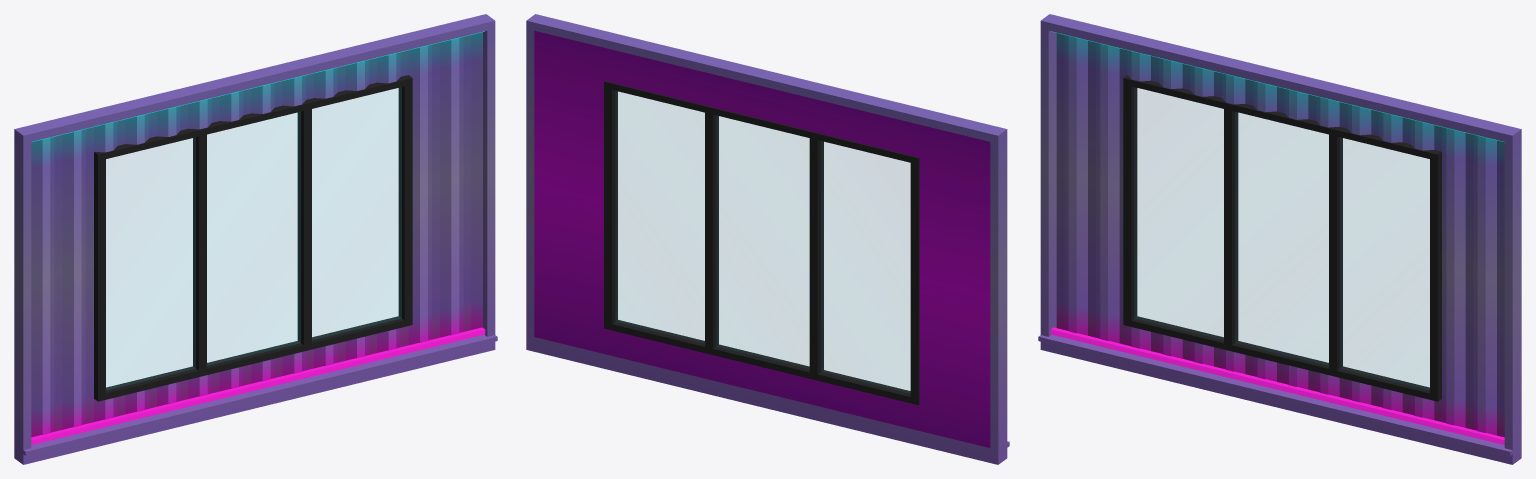
File: panel_window.gltf
3 renders of one model, left to right at view 1: azimuth 30°, elevation 25°; view 2: azimuth 150°, elevation 25°; view 3: azimuth 330°, elevation 25°, orthographic.
Parts seen in each view (by area): view 1: Cube, Details.002, Plane.003, Neones.001; view 2: Cube, Plane.004, Plane.003; view 3: Cube, Details.002, Plane.003, Neones.001.
Part boxes in pixels (bbox=[...]): Cube: bbox=[94, 75, 412, 401]; Details.002: bbox=[31, 32, 482, 437]; Plane.003: bbox=[14, 14, 497, 464]; Neones.001: bbox=[31, 31, 485, 444]; Cube: bbox=[604, 81, 919, 405]; Plane.004: bbox=[534, 30, 990, 447]; Plane.003: bbox=[526, 14, 1009, 464]; Cube: bbox=[1123, 75, 1441, 401]; Details.002: bbox=[1056, 33, 1504, 437]; Plane.003: bbox=[1038, 14, 1521, 464]; Neones.001: bbox=[1050, 31, 1504, 444].
Size of what is drawn, in the model's own units: 6 by 4 by 0.2721.
Materials: 3 (3 with a texture image).
